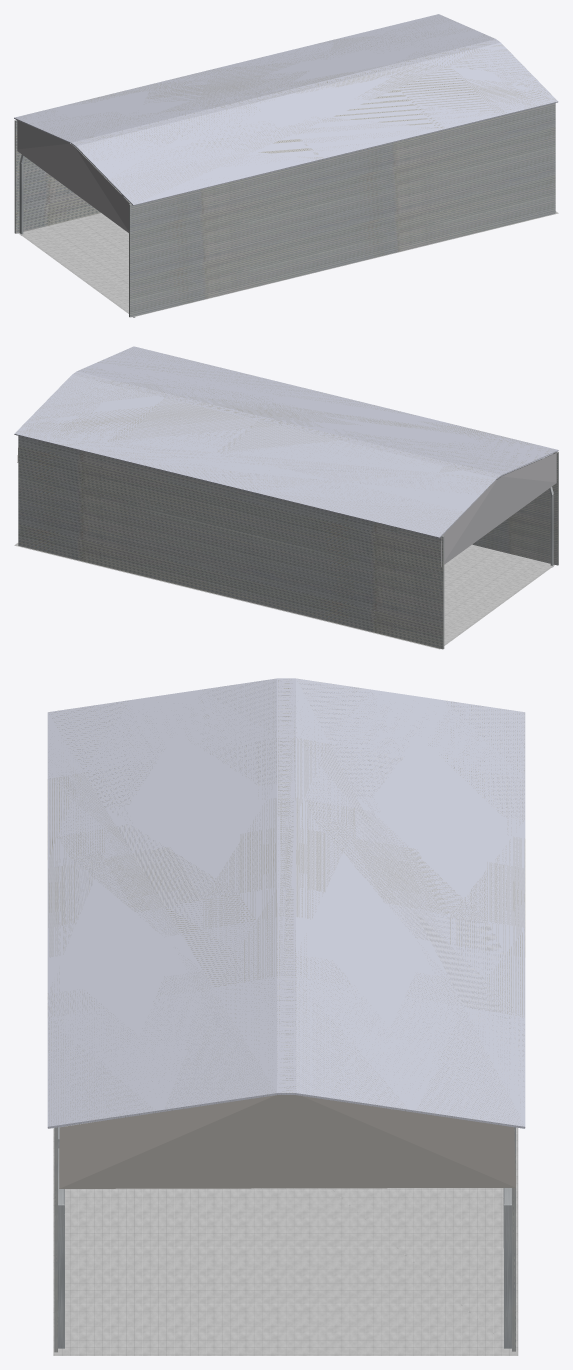
Rendered from Hangar.0.4.gltf.
3 renders of one model, top to bottom at view 1: azimuth 30°, elevation 25°; view 2: azimuth 150°, elevation 25°; view 3: azimuth 270°, elevation 25°, orthographic. The views are drawn at different scales.
Parts seen in each view (by area): view 1: instance_0.067, Cube.031, Plane.001, Cube.030, Cube.028; view 2: instance_0.067, Cube.028, Plane.001, Cube.030, Cube.031; view 3: instance_0.067, Plane.001, Cube.029, Cube.022, Cube.005, Cube.031.
Part boxes in pixels (x1,y1,x2,y2): instance_0.067: (14, 14, 558, 205); Cube.031: (129, 103, 555, 317); Plane.001: (18, 211, 558, 317); Cube.030: (16, 119, 129, 232); Cube.028: (14, 120, 130, 233); instance_0.067: (14, 346, 558, 538); Cube.028: (18, 435, 444, 649); Plane.001: (14, 543, 554, 649); Cube.030: (441, 453, 556, 566); Cube.031: (472, 451, 558, 565); instance_0.067: (47, 678, 525, 1128); Plane.001: (53, 1122, 518, 1355); Cube.029: (59, 1095, 515, 1188); Cube.022: (504, 1204, 511, 1348); Cube.005: (58, 1204, 64, 1348); Cube.031: (54, 1127, 57, 1352).
Size of the model in its own units: 22.12 by 6.5 by 10.67.
Materials: 44 (32 with a texture image).
